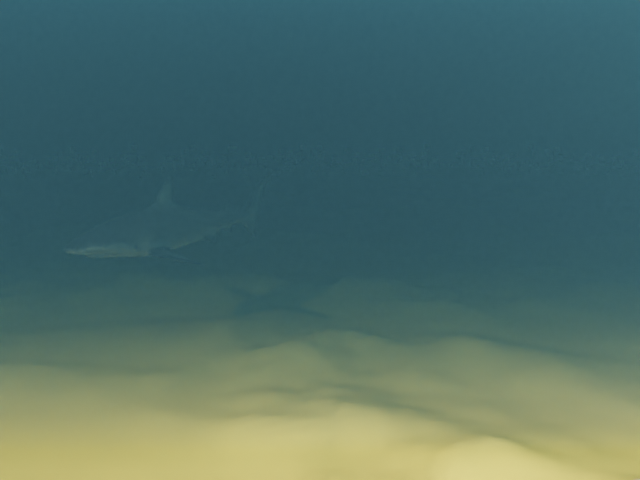Carribean Shark.001: (63, 170, 272, 265)
